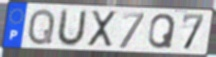7: (118, 11, 146, 49), (181, 13, 207, 52)
Q: (26, 8, 57, 47), (147, 12, 178, 50)
U: (54, 8, 89, 48)
X: (86, 9, 118, 48)
